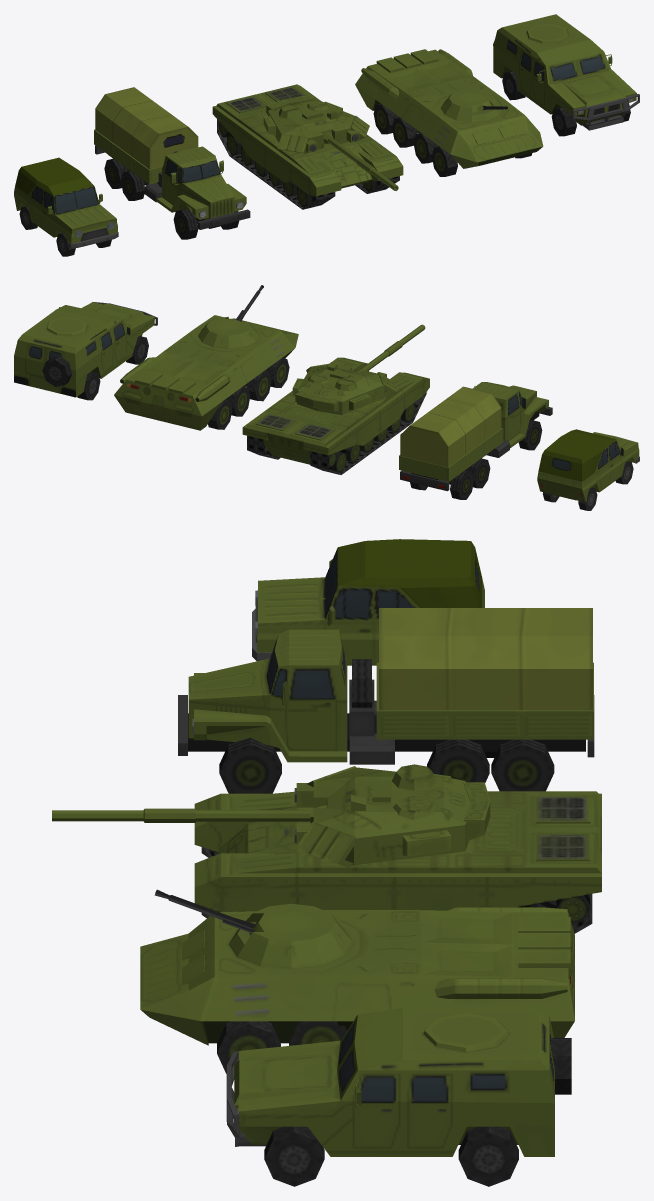
Rendered from military vehicles.fbx.
3 renders of one model, top to bottom at view 1: azimuth 30°, elevation 25°; view 2: azimuth 150°, elevation 25°; view 3: azimuth 270°, elevation 25°, orthographic. The views are drawn at different scales.
Visible parts, largest first — view 1: T-90, BTR, Ural, Tiger, UAZ; view 2: T-90, BTR, Ural, Tiger, UAZ; view 3: Ural, T-90, BTR, Tiger, UAZ.
Part boxes in pixels (x1,y1,x2,y2): T-90: (212, 84, 403, 209); BTR: (355, 49, 543, 176); Ural: (94, 87, 250, 239); Tiger: (493, 14, 639, 136); UAZ: (14, 157, 118, 256); T-90: (242, 324, 429, 474); BTR: (114, 285, 298, 430); Ural: (399, 382, 552, 499); Tiger: (14, 302, 157, 400); UAZ: (537, 429, 639, 510); Ural: (178, 608, 594, 793); T-90: (52, 764, 601, 933); BTR: (140, 889, 574, 1073); Tiger: (226, 1008, 571, 1186); UAZ: (252, 539, 484, 665).
Bounding box in the file's own units: 2269 × 304 × 963.
5 materials, 5 textured.
